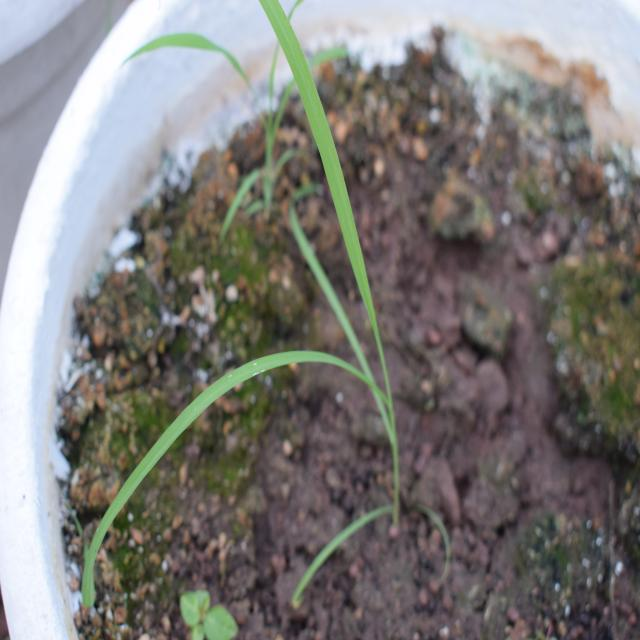barnyard_grass: (67, 30, 424, 503)
